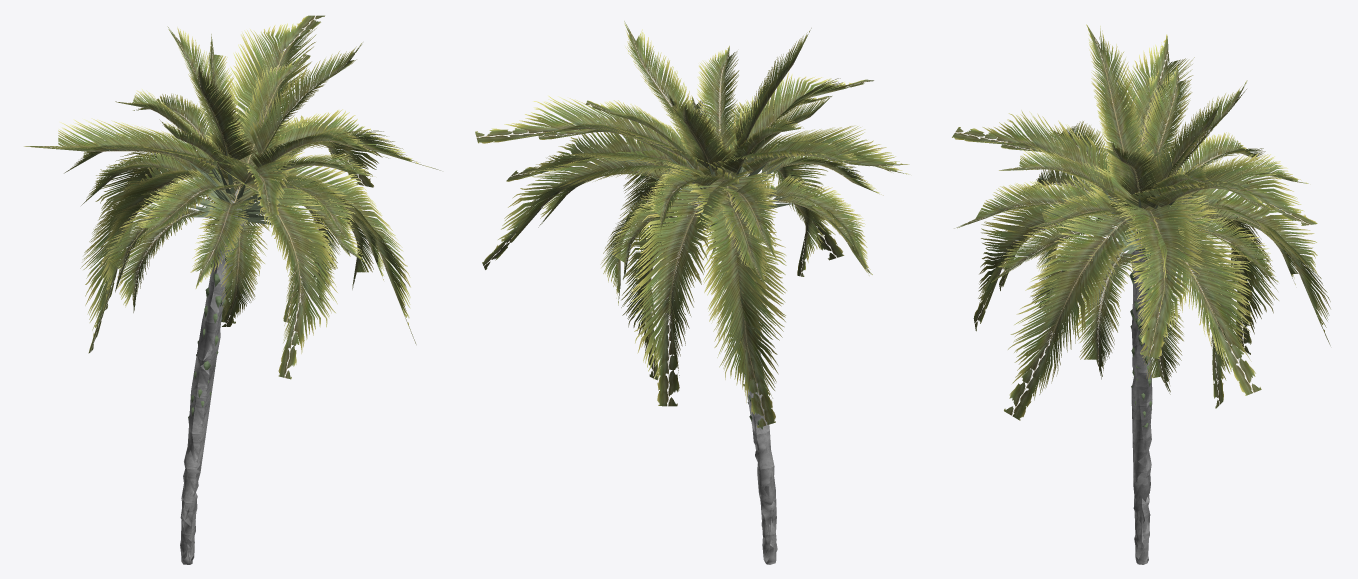
The model's file is palma_real.glb.
The picture shows the model from 3 angles, left to right: view 1: azimuth 30°, elevation 25°; view 2: azimuth 150°, elevation 25°; view 3: azimuth 270°, elevation 25°; orthographic projection. The views are drawn at different scales.
Visible parts, largest first — view 1: cerca, lejos; view 2: lejos, cerca; view 3: lejos, cerca.
Boxes of the visible parts, x1=… form: cerca: x1=64, y1=26, x2=388, y2=564; lejos: x1=24, y1=15, x2=440, y2=564; lejos: x1=475, y1=72, x2=909, y2=560; cerca: x1=538, y1=21, x2=909, y2=564; lejos: x1=952, y1=34, x2=1330, y2=560; cerca: x1=954, y1=24, x2=1308, y2=564.
Bounding box in the file's own units: 13.26 × 16 × 10.7.
2 materials, 2 textured.
